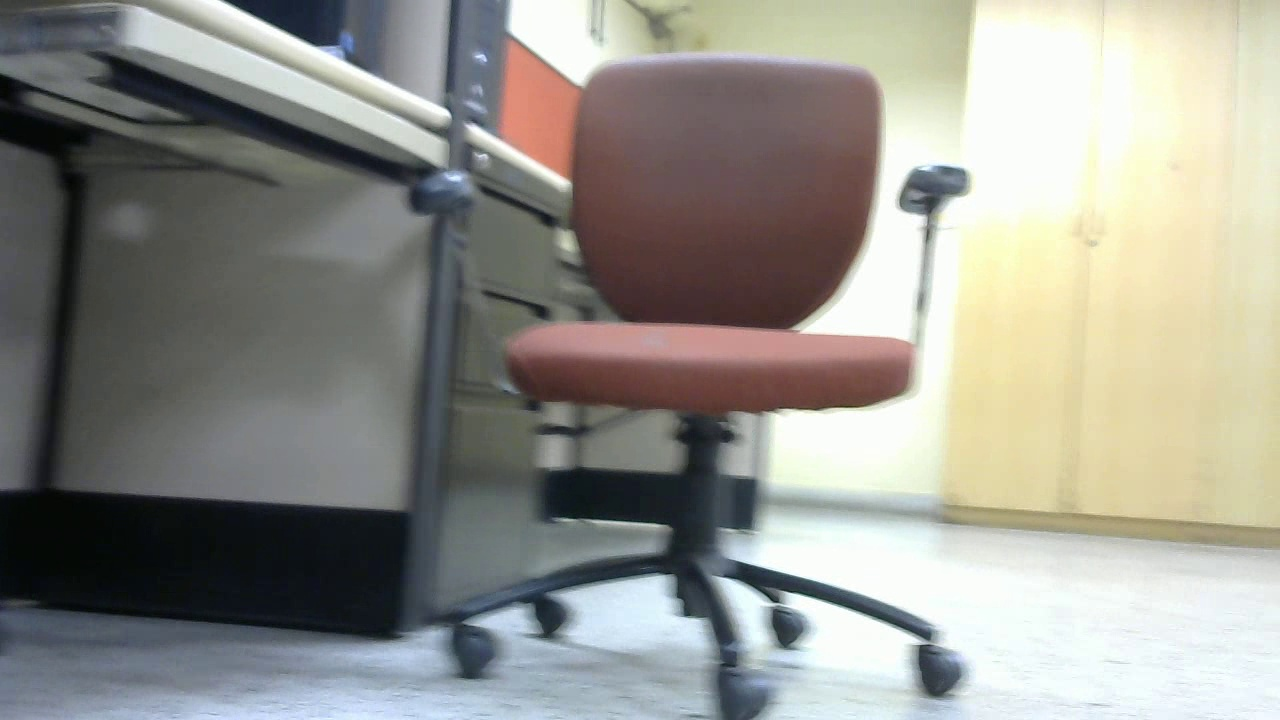chair: (414, 45, 972, 720)
